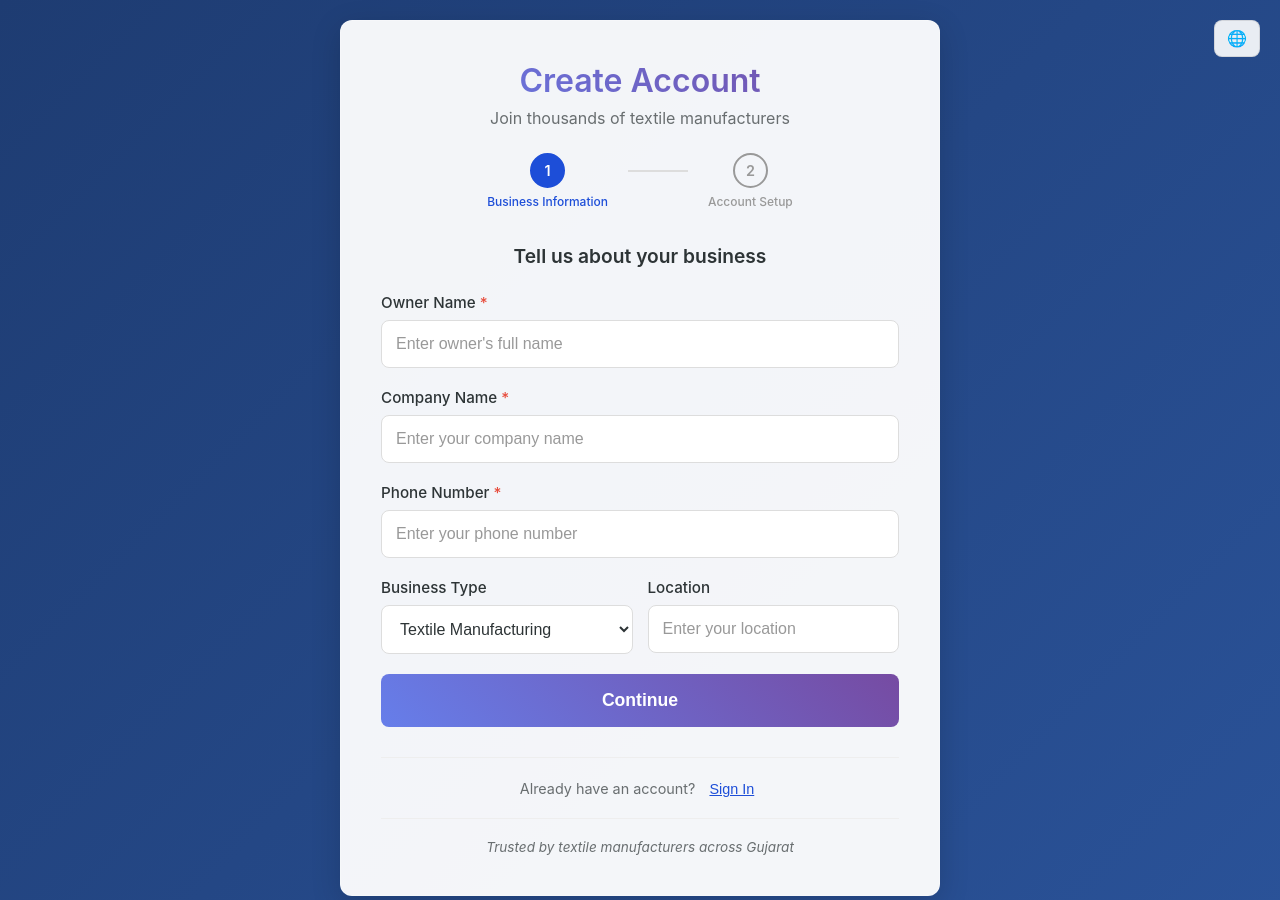
Test: SignUp Component › Step Navigation › should go back to Step 1 when back button is clicked
The width and height of the screenshot is (1280, 900).
# Fill Step 1 and proceed to Step 2
Type "John Doe" into the field labelled "Owner Name *" at (640, 344), box [381,320,899,368]
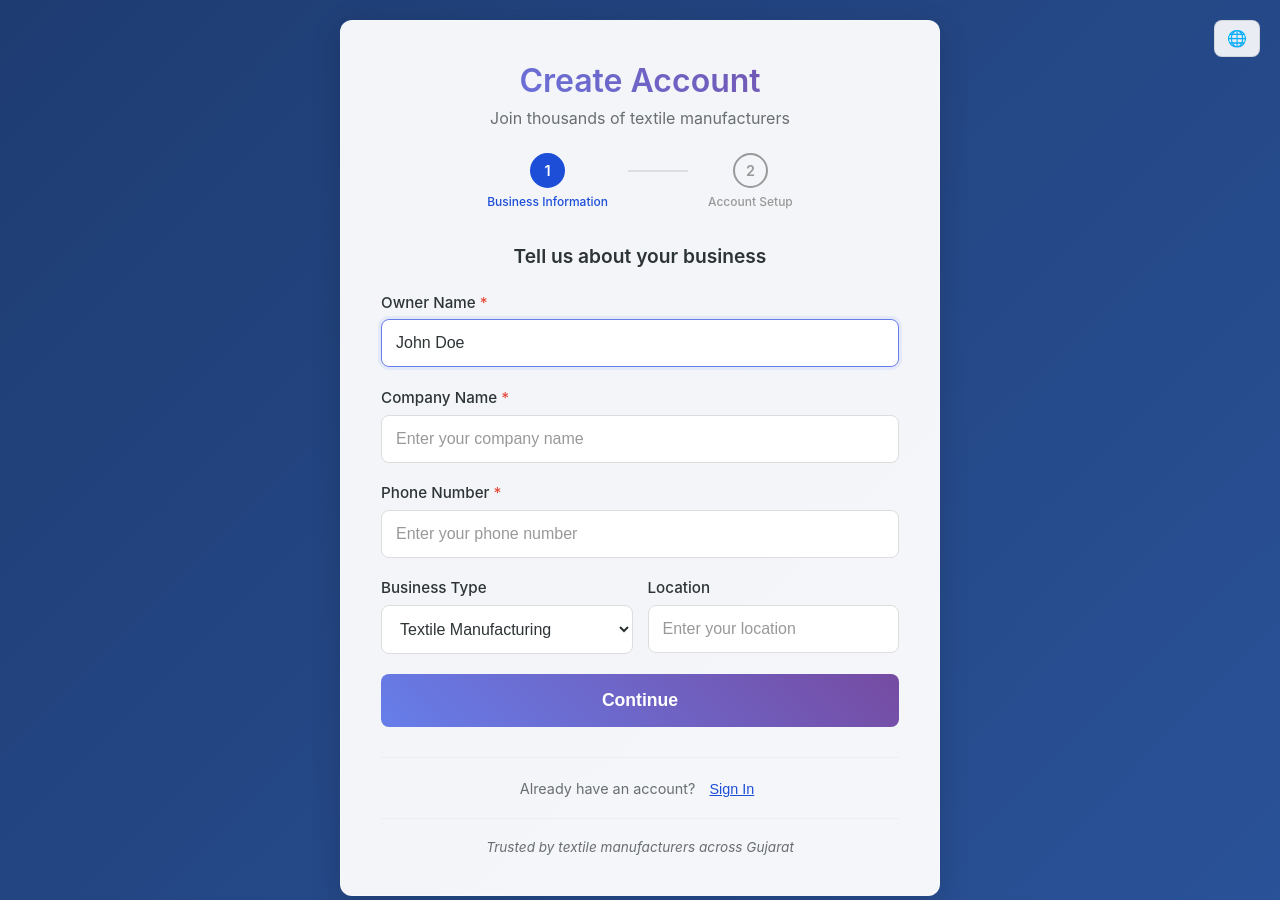
Type "Surat Textiles" into the field labelled "Company Name *" at (640, 439), box [381,415,899,463]
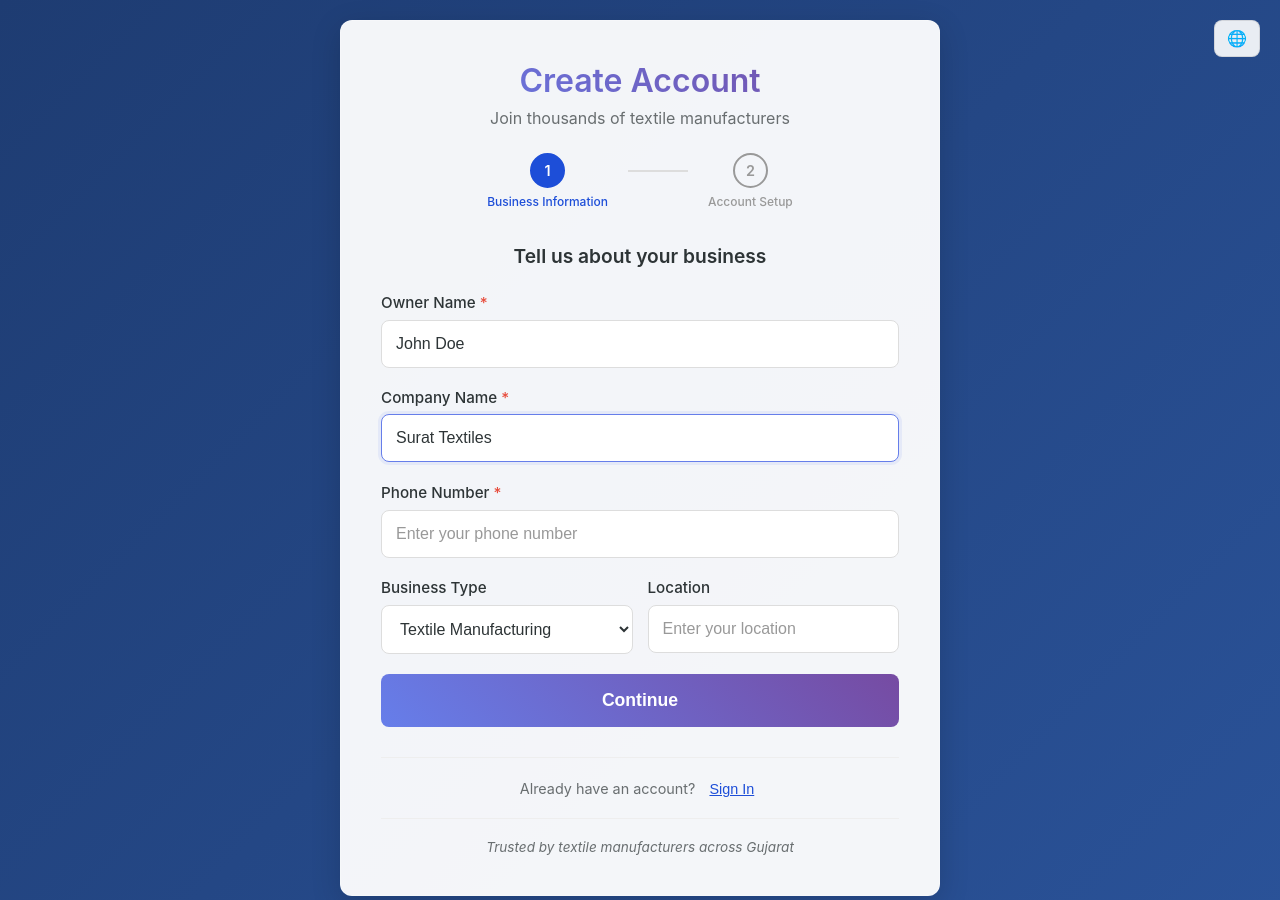
Type "9876543210" into the field labelled "Phone Number *" at (640, 534), box [381,510,899,558]
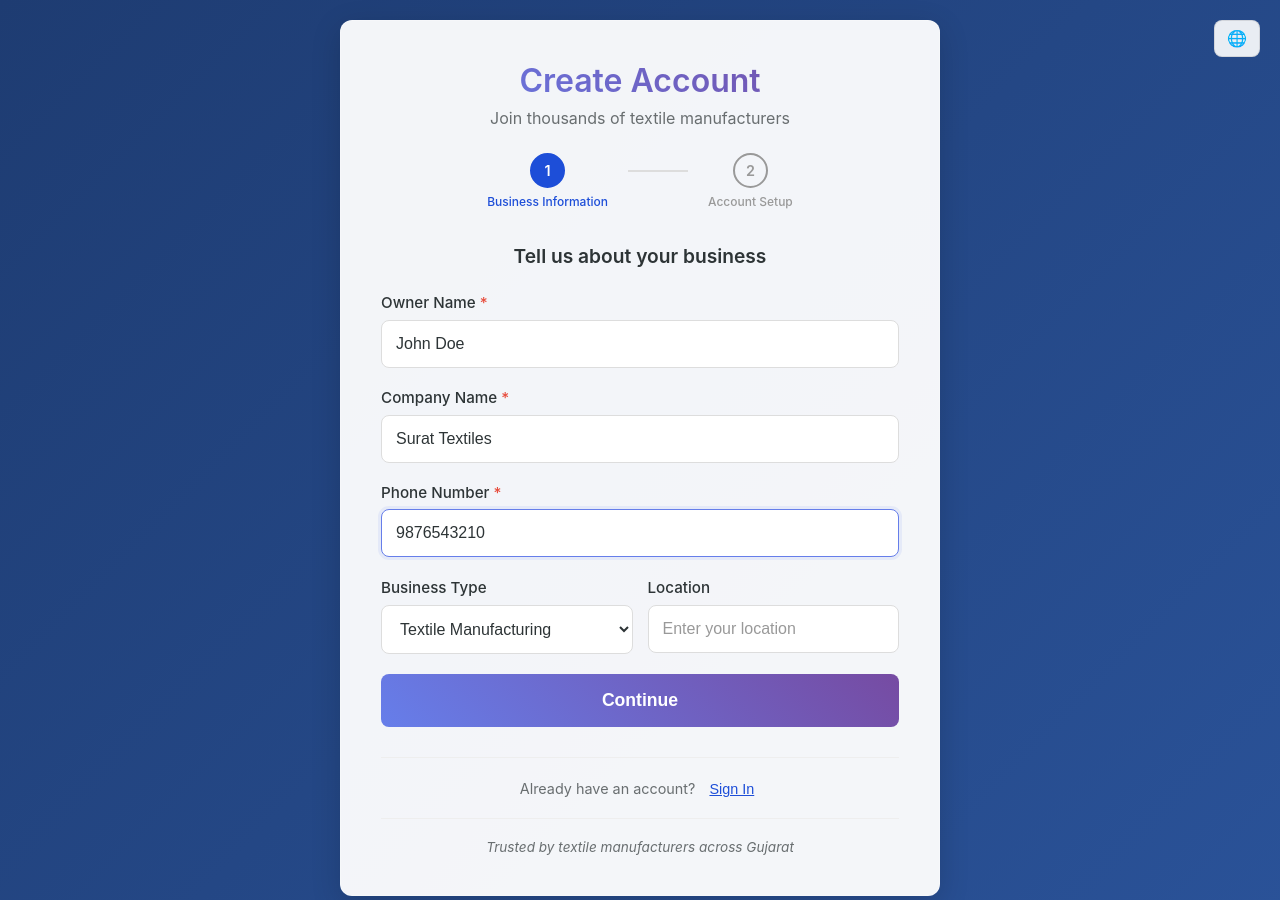
Click the button "Continue" at (640, 700), box [381,674,899,727]
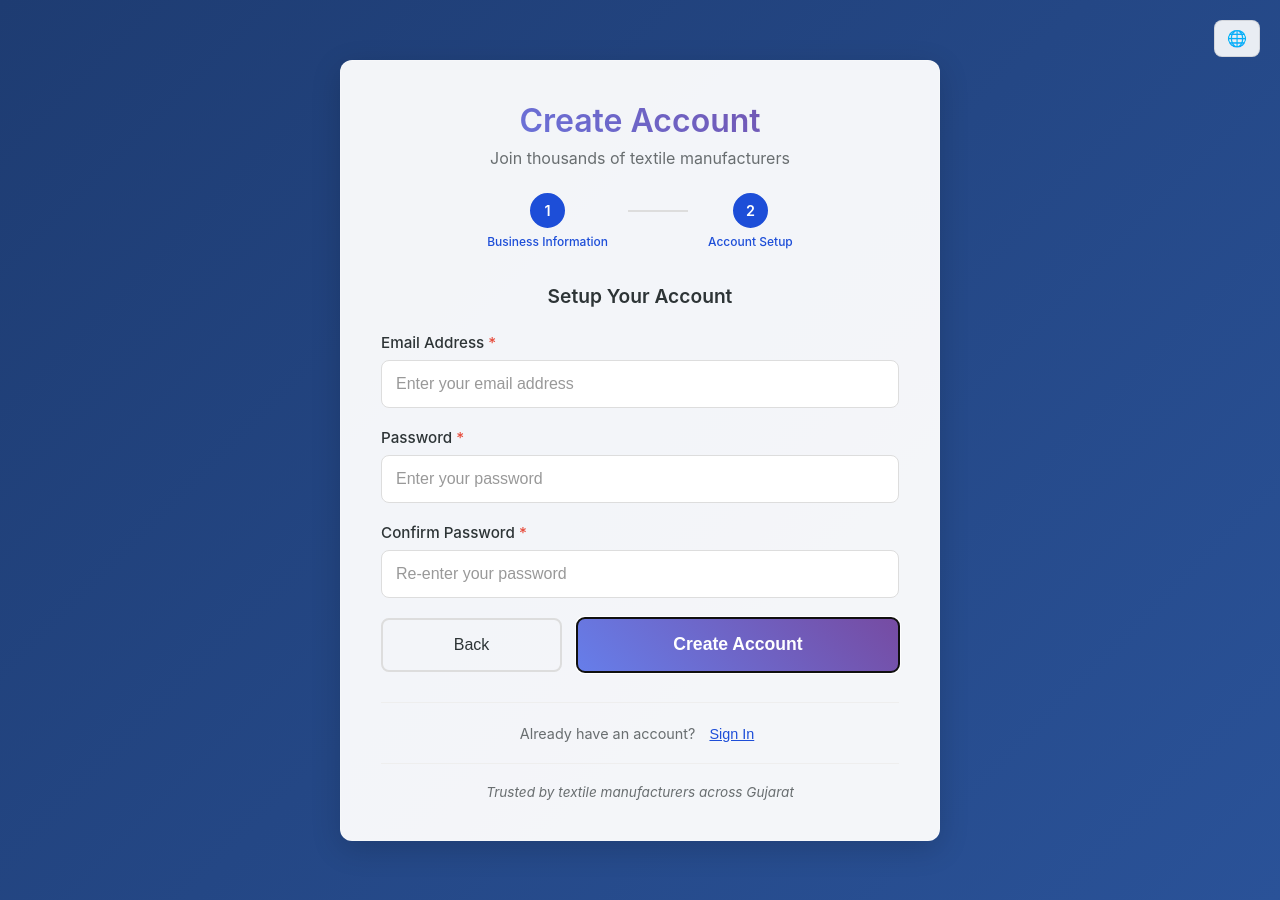
# Now in Step 2, click back
Click the button "Back" at (472, 644), box [381,618,562,672]
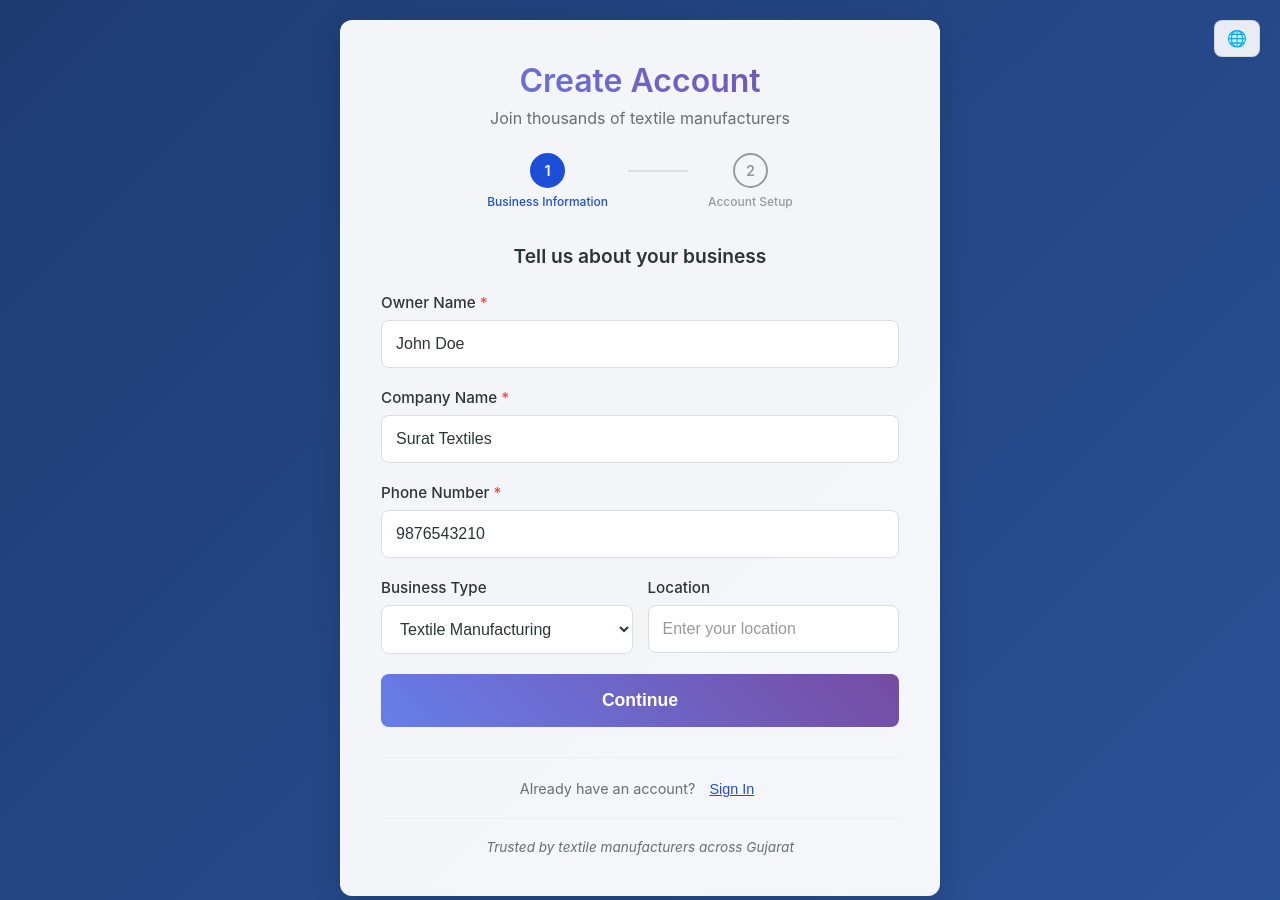
Result: the text "Tell us about your business" is shown at [514,244,766,268]
